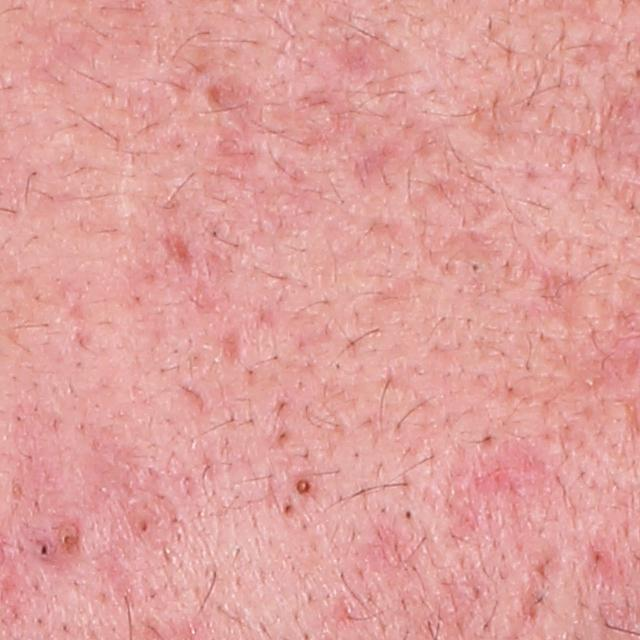atrophic_scar: (431, 436, 574, 541), (517, 253, 580, 303), (161, 225, 197, 279)
comedo: (291, 474, 317, 498), (60, 532, 79, 548), (467, 259, 484, 276), (139, 515, 153, 535), (36, 540, 51, 558)
